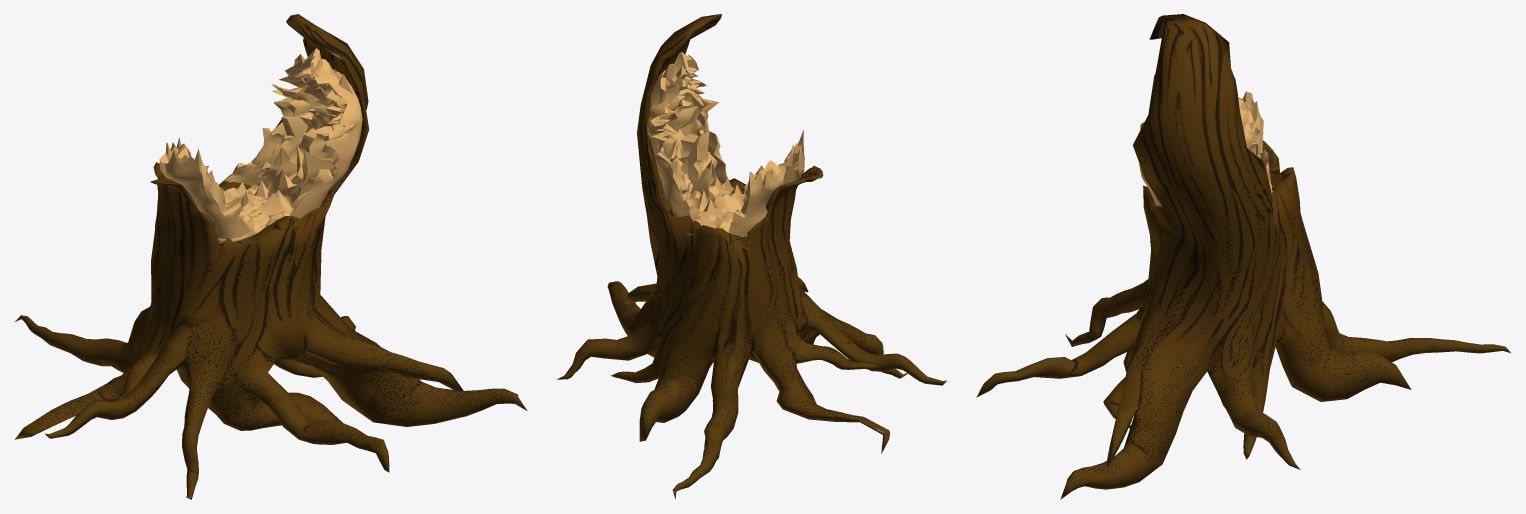
File: ygdrassil backup7.fbx
The picture shows the model from 3 angles, left to right: view 1: azimuth 30°, elevation 25°; view 2: azimuth 150°, elevation 25°; view 3: azimuth 270°, elevation 25°; orthographic projection. The views are drawn at different scales.
Visible parts, largest first — view 1: RetopoGroup1, Cube.001; view 2: RetopoGroup1, Cube.001; view 3: RetopoGroup1, Cube.001.
Boxes of the visible parts, box(x1,y1,x2,y2) form: RetopoGroup1: box(15, 14, 527, 499); Cube.001: box(159, 48, 362, 243); RetopoGroup1: box(557, 14, 946, 498); Cube.001: box(647, 51, 804, 236); RetopoGroup1: box(976, 14, 1511, 499); Cube.001: box(1139, 91, 1278, 210).
Size of the model in its own units: 24096 by 22044 by 25323.
